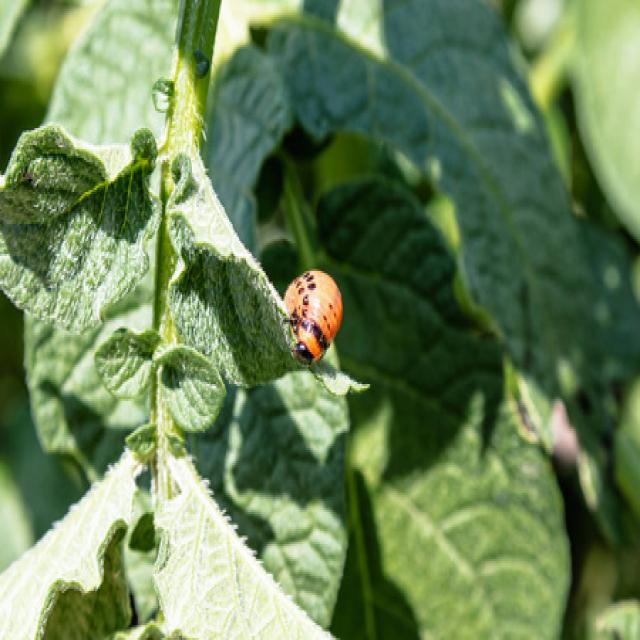ShuCaiHuaBanChong-Larva-: (270, 258, 354, 381)
